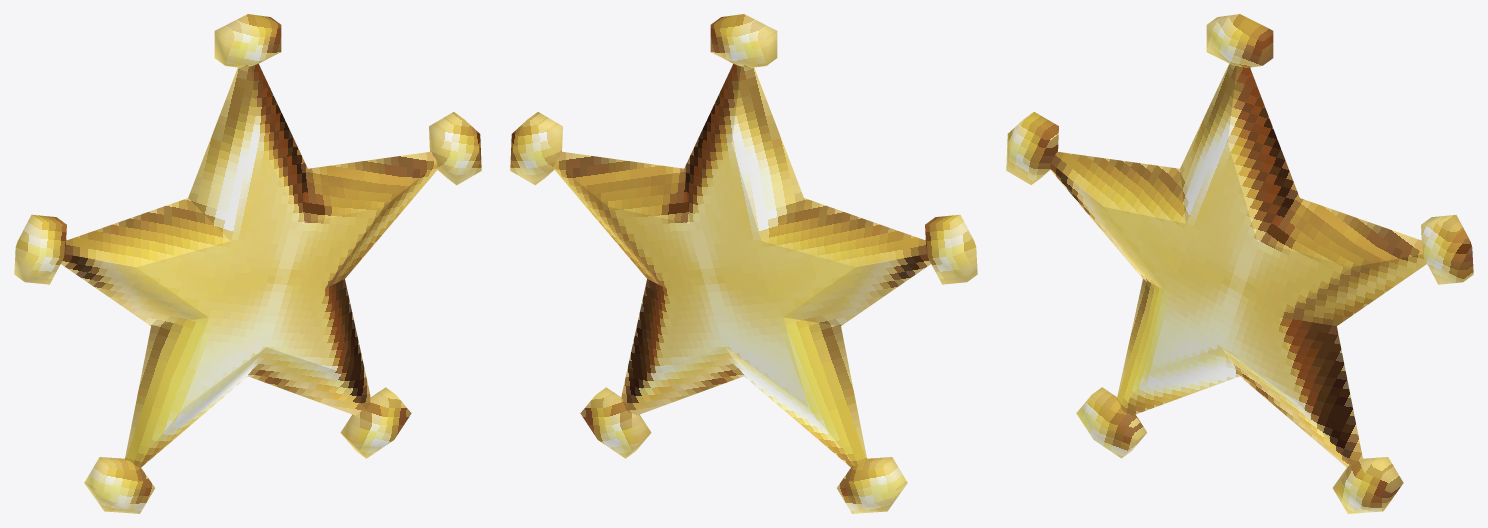
3 views of the same model, side by side, from view 1: azimuth 30°, elevation 25°; view 2: azimuth 150°, elevation 25°; view 3: azimuth 330°, elevation 25° (orthographic).
Visible parts, largest first — view 1: star; view 2: star; view 3: star.
Boxes of the visible parts, <box> form: star: <box>14,14,481,513</box>; star: <box>510,14,977,513</box>; star: <box>1006,14,1473,513</box>.
Bounding box in the file's own units: 117 × 113 × 16.06.
Materials: 1 (1 with a texture image).
